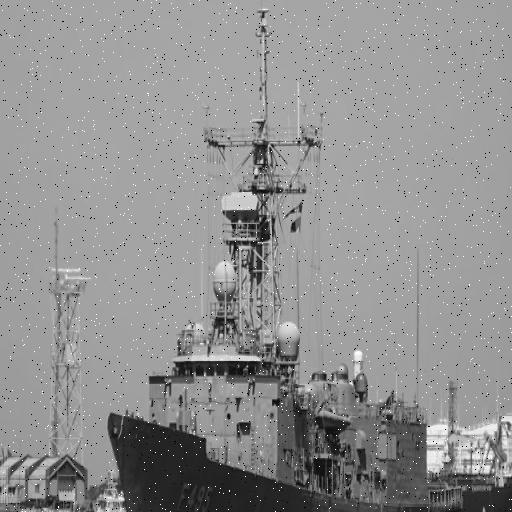Fragata: (105, 1, 471, 512)
